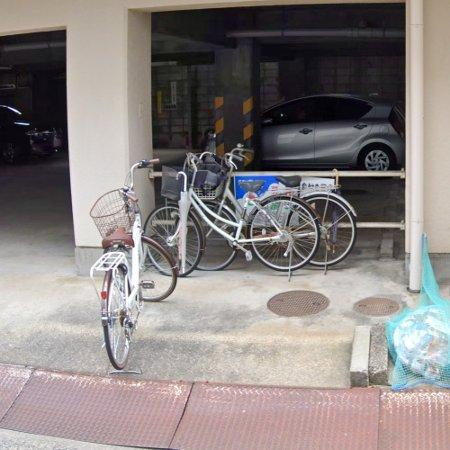bicycles: (144, 153, 320, 276), (207, 145, 360, 271), (90, 159, 178, 370), (197, 226, 239, 270)
